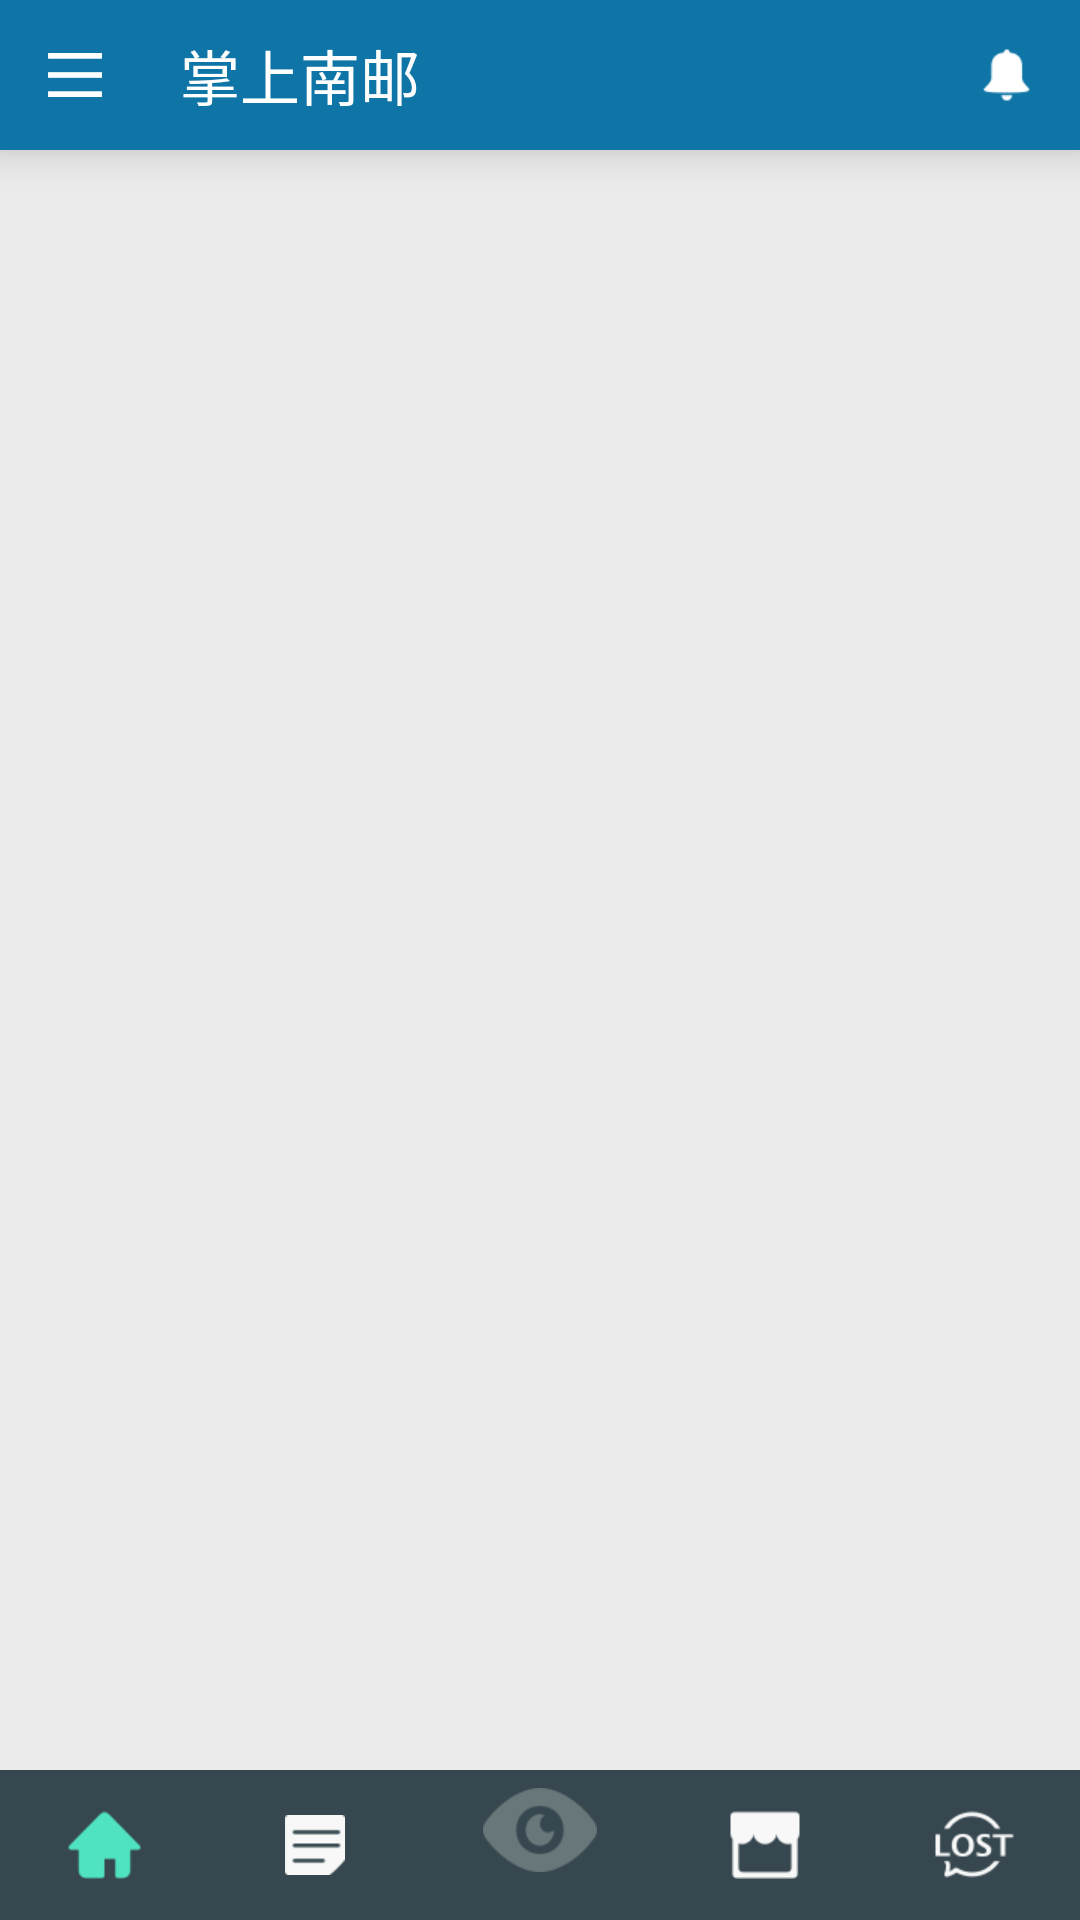

Icons on this 1080px×1920px Android screen, each with the point to tap as (x,y):
eyes: (540,1830)
main: (104,1845)
menu: (75,75)
read: (315,1845)
